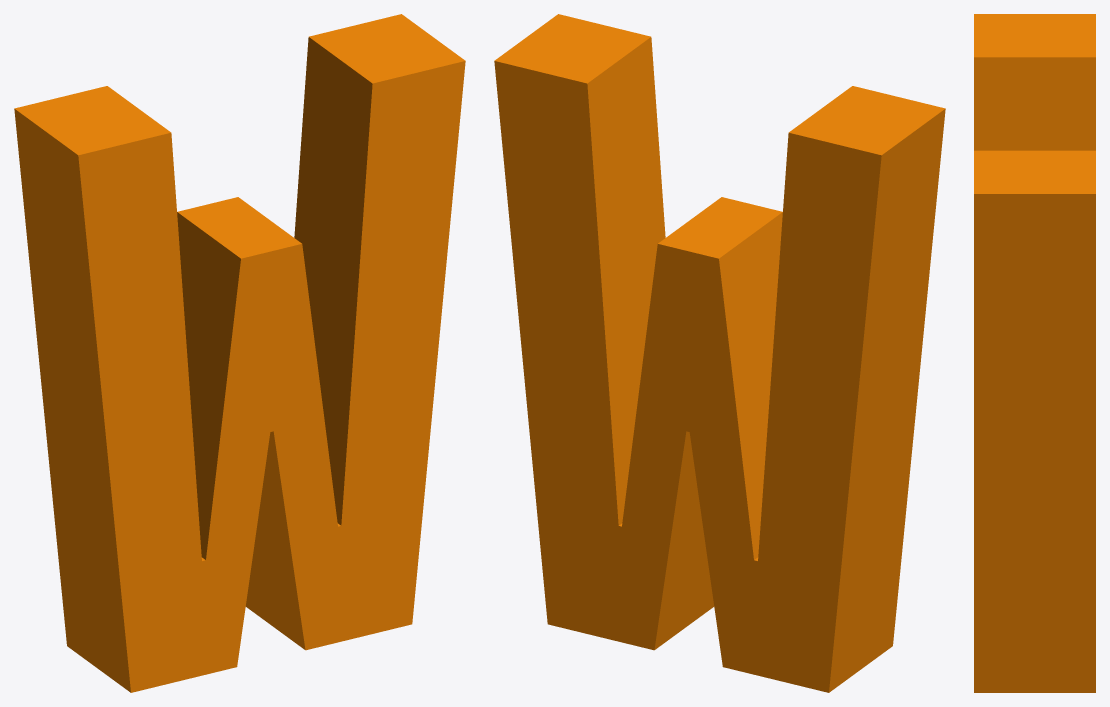
The model's file is Letter_W.fbx.
3 renders of one model, left to right at view 1: azimuth 30°, elevation 25°; view 2: azimuth 150°, elevation 25°; view 3: azimuth 270°, elevation 25°, orthographic. The views are drawn at different scales.
Visible parts, largest first — view 1: Group1; view 2: Group1; view 3: Group1.
Part boxes in pixels (left/top/right/bottom): Group1: left=14, top=14, right=465, bottom=692; Group1: left=494, top=14, right=945, bottom=692; Group1: left=974, top=14, right=1095, bottom=692.
Bounding box in the file's own units: 157 × 214 × 45.
